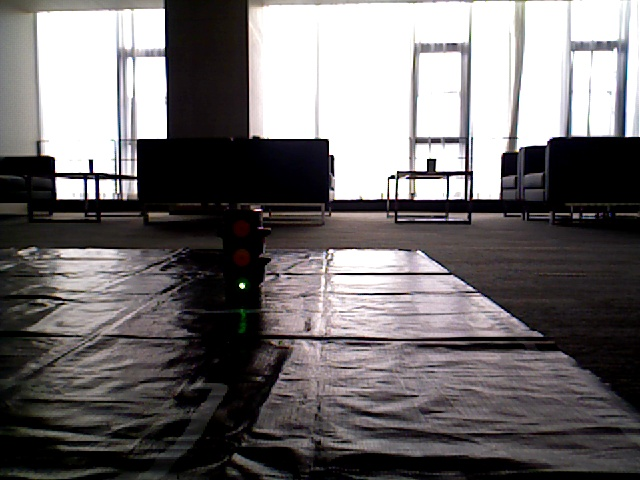green: (229, 207, 260, 295)
